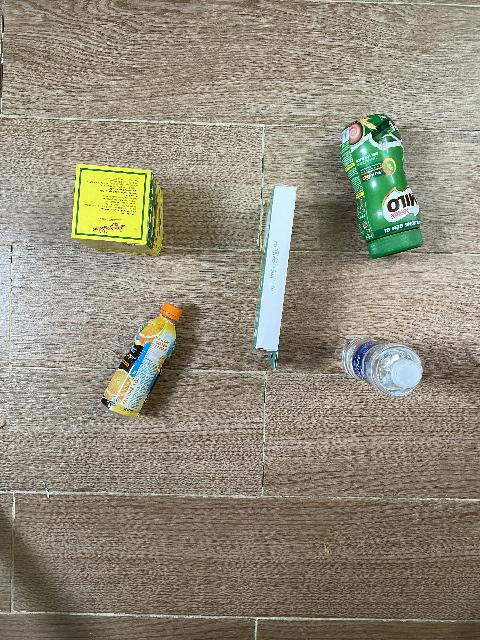4D_medical_face-mask: (251, 184, 297, 372)
aquafina: (341, 338, 422, 397)
luong_kho: (71, 164, 164, 257)
milo: (339, 114, 423, 260)
teppy_orange_juice: (100, 302, 183, 421)
